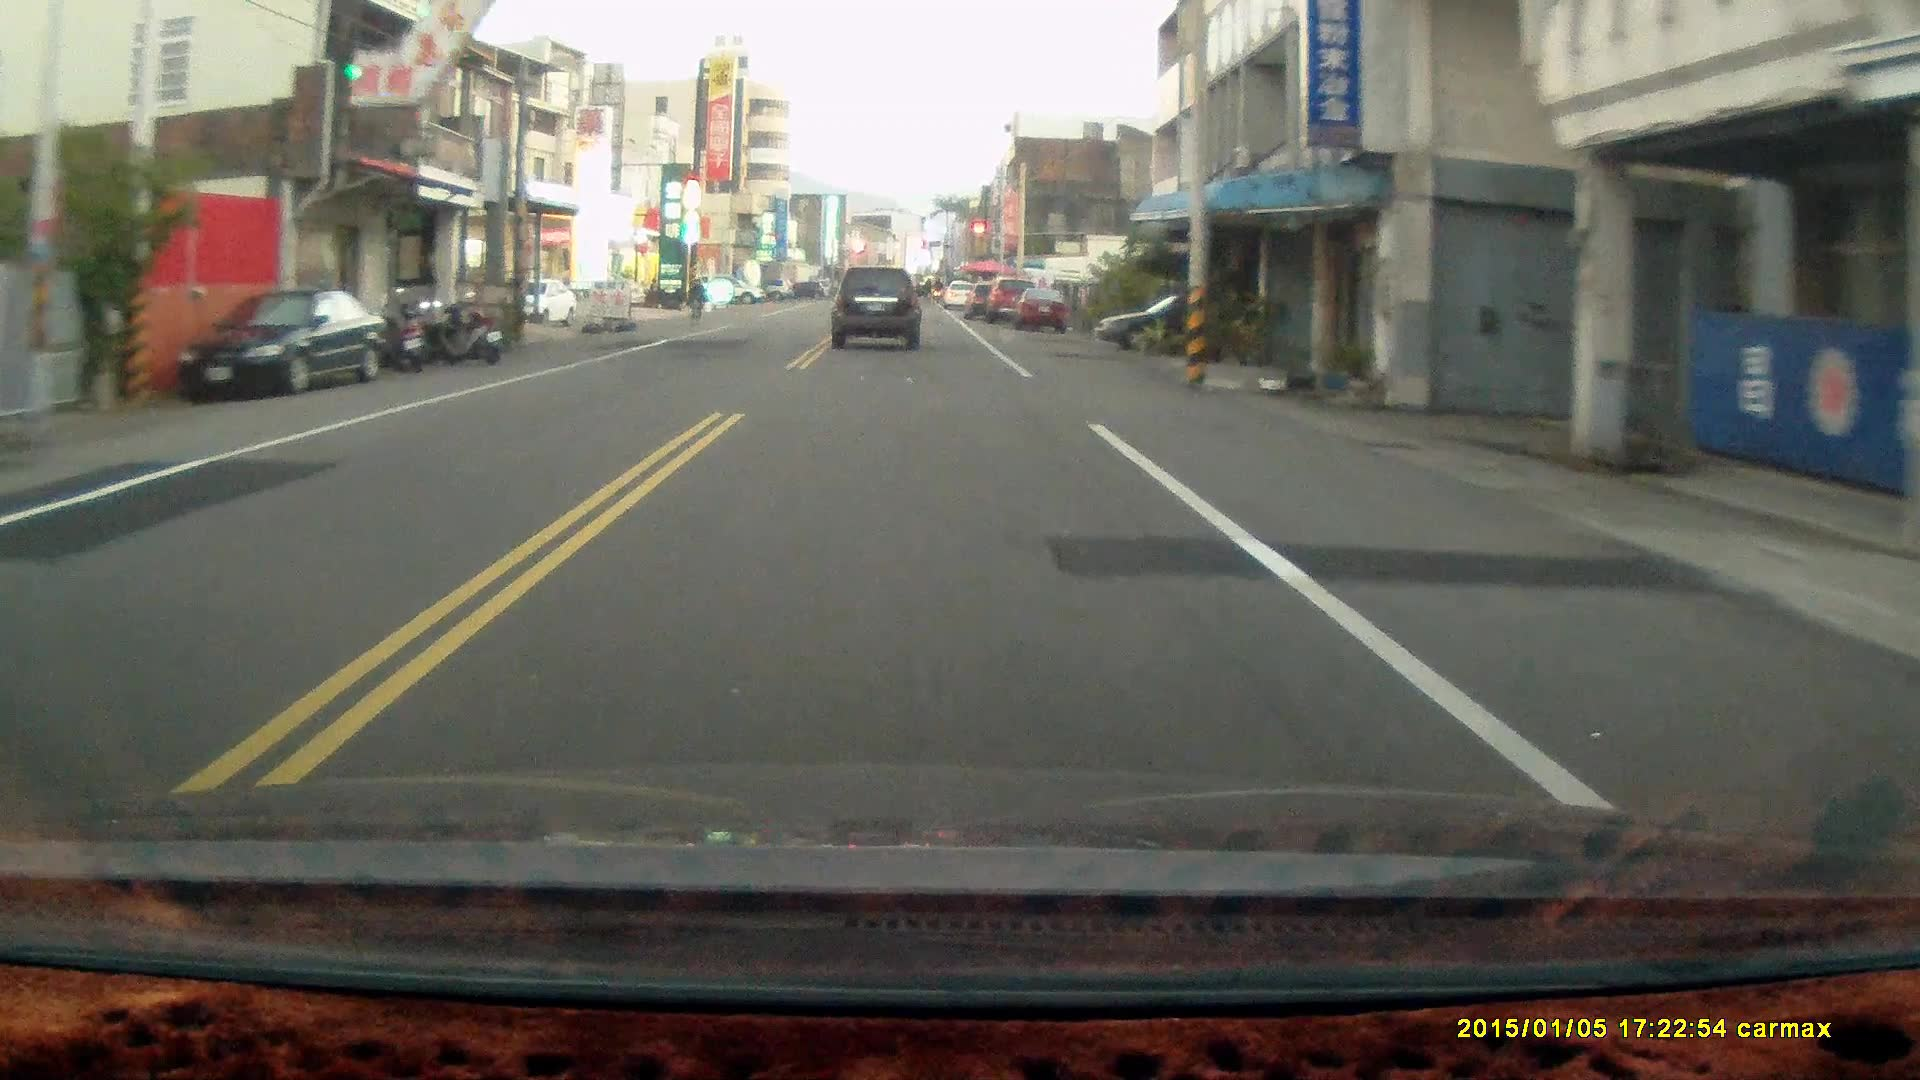rider: (682, 276, 706, 329)
vehicle: (177, 291, 387, 402), (831, 265, 925, 353), (487, 279, 578, 327)
